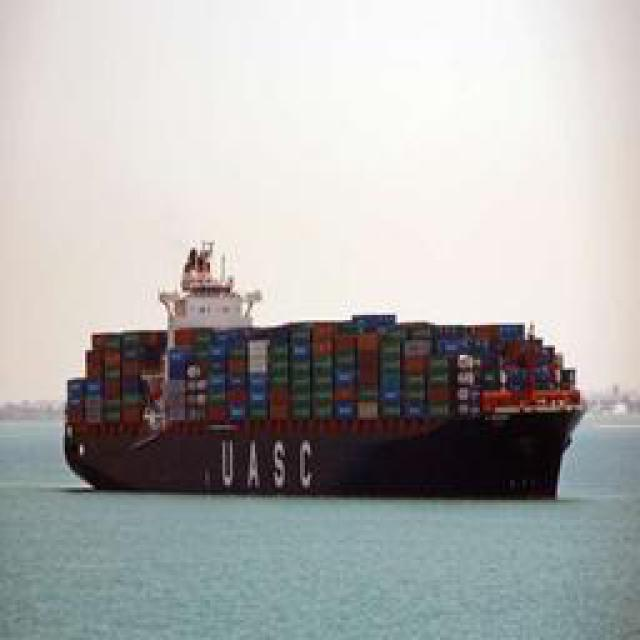Ship: (64, 245, 589, 500)
